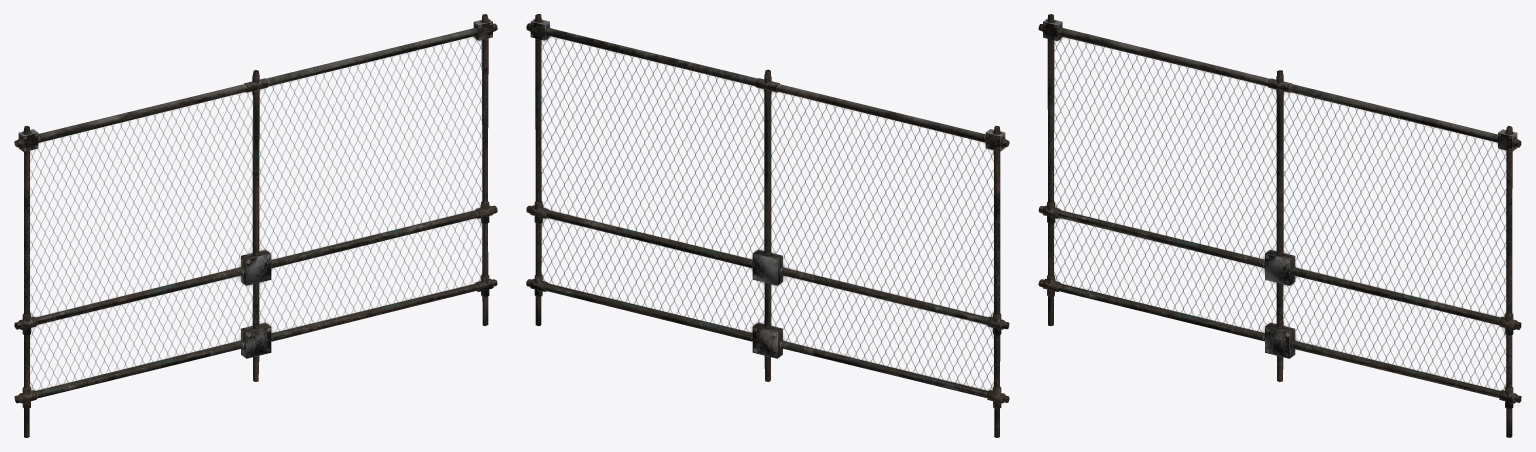
File: base_mesh_fence.glb
3 views of the same model, side by side, from view 1: azimuth 30°, elevation 25°; view 2: azimuth 150°, elevation 25°; view 3: azimuth 330°, elevation 25° (orthographic).
Parts seen in each view (by area): view 1: base_mesh_fence; view 2: base_mesh_fence; view 3: base_mesh_fence.
Boxes of the visible parts, x1,y1,x2,y2 form: base_mesh_fence: (14, 14, 497, 437); base_mesh_fence: (526, 14, 1009, 437); base_mesh_fence: (1038, 14, 1521, 437).
Bounding box in the file's own units: 5.67 × 3.5 × 0.1134.
Materials: 1 (1 with a texture image).
